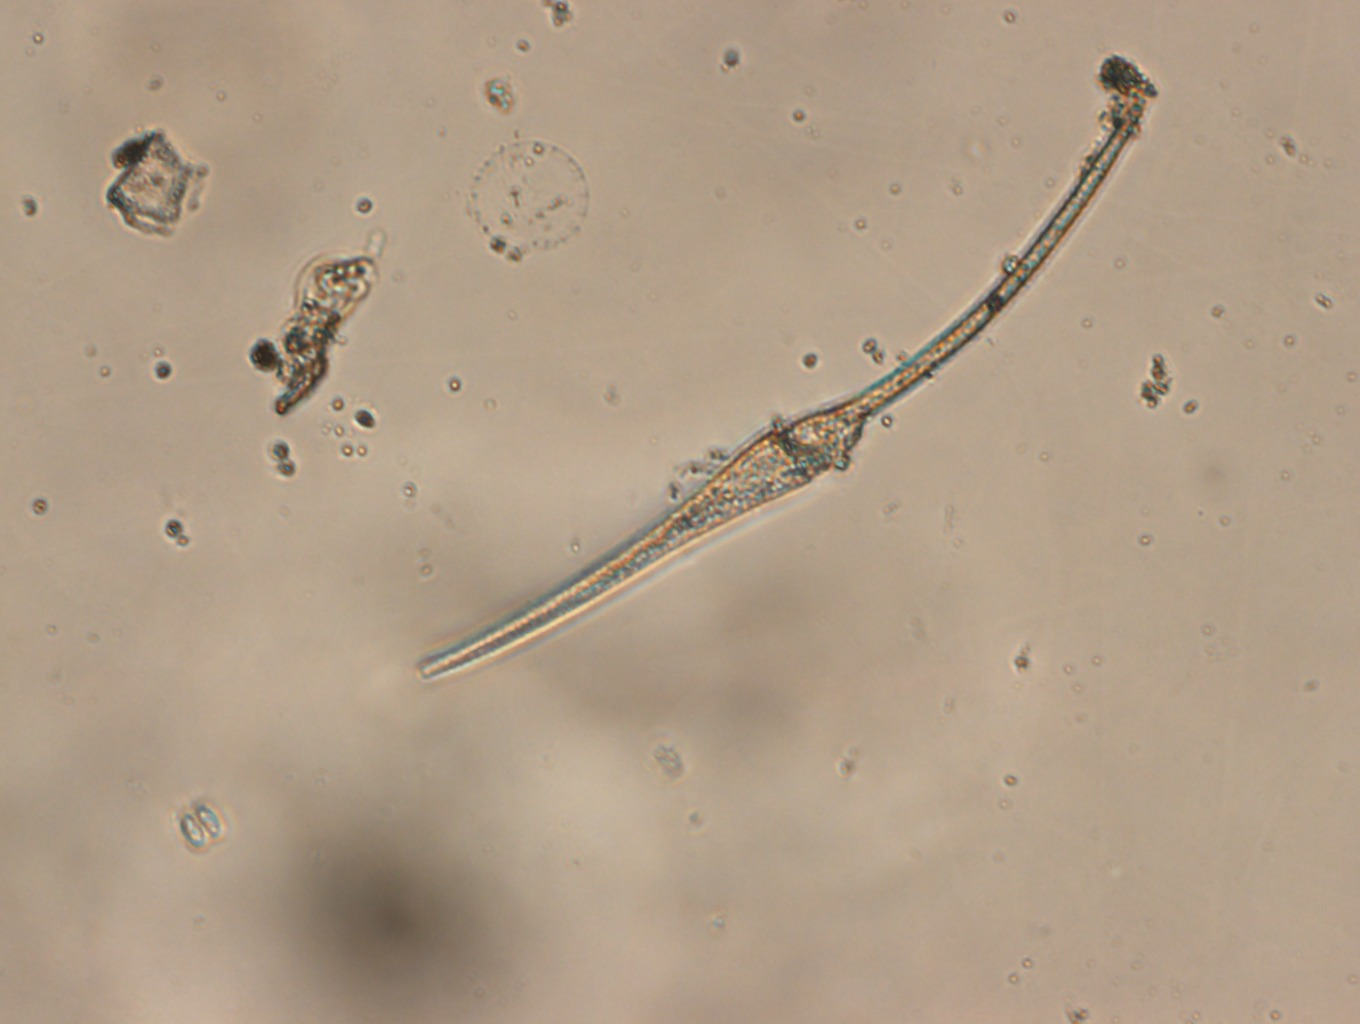ceratium fusus: (418, 102, 1149, 677)
